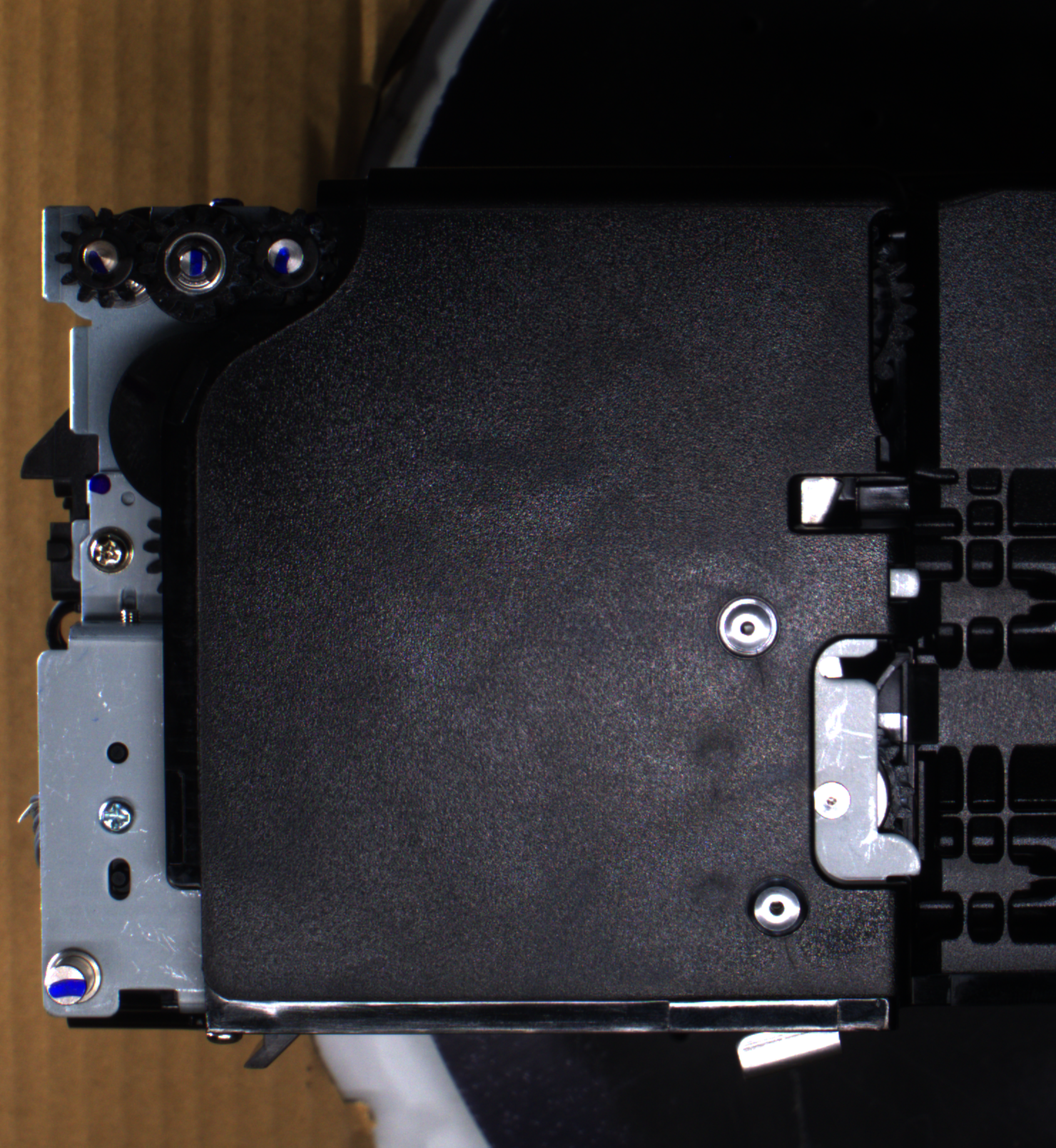centre_pin_presence: (727, 1014, 848, 1080)
centre_plate_presence: (800, 629, 930, 893)
centre_screw_presence: (712, 588, 784, 665), (740, 868, 812, 942)
gear1_presence: (53, 206, 153, 310)
gear2_presence: (139, 202, 251, 324)
gear3_presence: (234, 205, 334, 310)
side_screw_presence: (82, 525, 135, 574), (95, 793, 136, 835)
slanting_pin_presence: (38, 943, 110, 1017)
